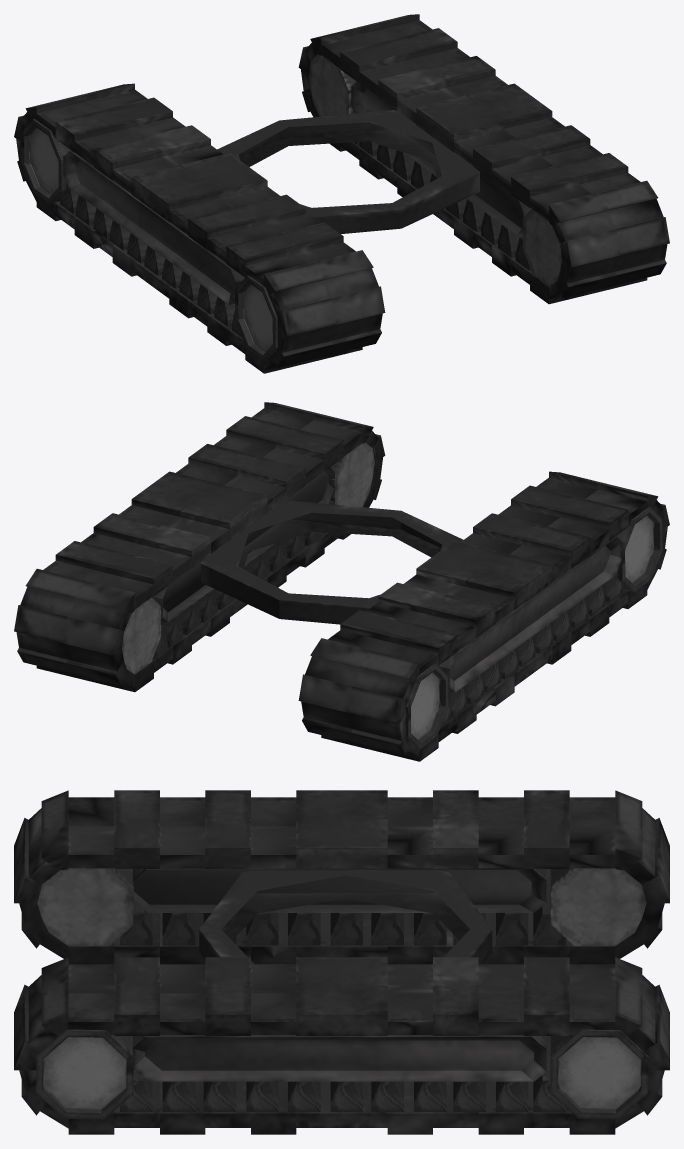
The model's file is crane_bottom.glb.
3 views of the same model, one above another, from view 1: azimuth 30°, elevation 25°; view 2: azimuth 150°, elevation 25°; view 3: azimuth 270°, elevation 25° (orthographic). The views are drawn at different scales.
Visible parts, largest first — view 1: crane_bottom; view 2: crane_bottom; view 3: crane_bottom.
Part boxes in pixels (x1,y1,x2,y2): crane_bottom: (14, 14, 669, 373); crane_bottom: (14, 402, 669, 761); crane_bottom: (14, 790, 669, 1134).
Size of the model in its own units: 4.1 by 1.01 by 5.01.
1 material, 1 textured.
